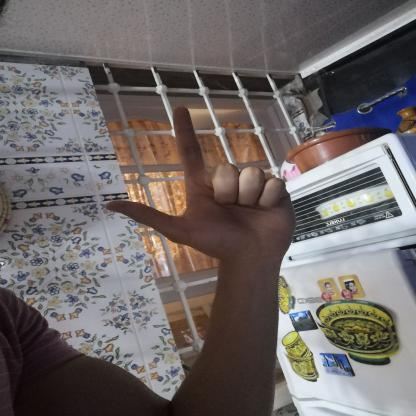LAAM: (88, 100, 310, 274)
